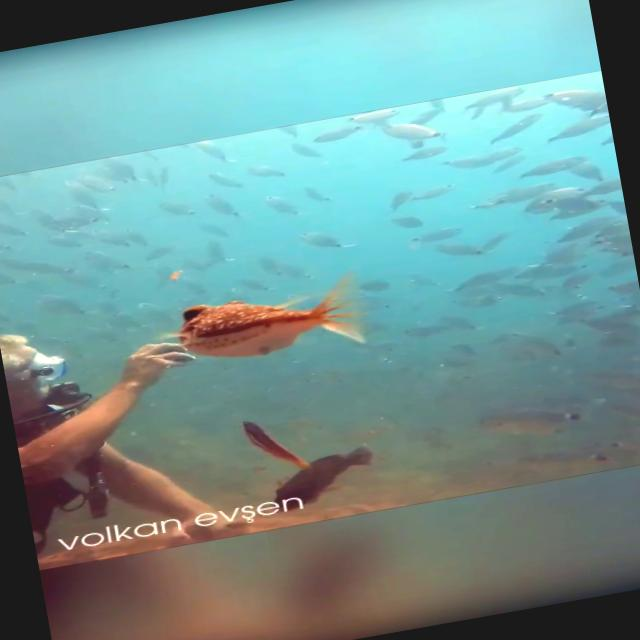Balon Baligi: (167, 269, 370, 376)
